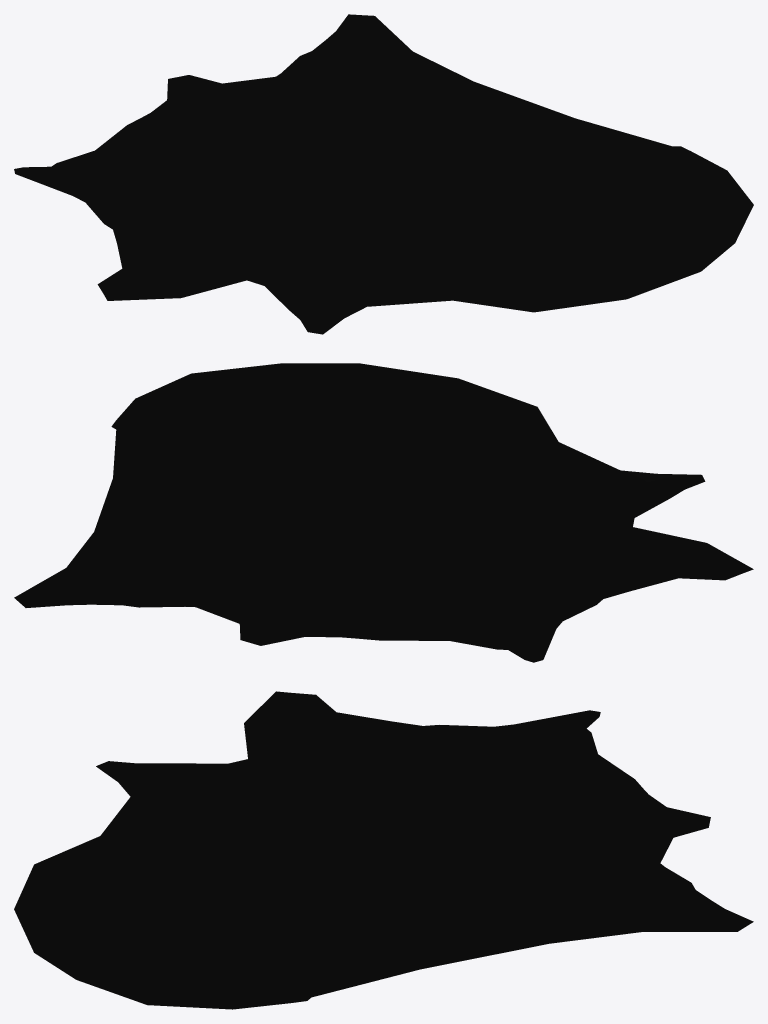
3 views of the same model, one above another, from view 1: azimuth 30°, elevation 25°; view 2: azimuth 150°, elevation 25°; view 3: azimuth 270°, elevation 25° (orthographic). The views are drawn at different scales.
Parts seen in each view (by area): view 1: Joint_0_Object_0; view 2: Joint_0_Object_0; view 3: Joint_0_Object_0.
Boxes of the visible parts, x1,y1,x2,y2 form: Joint_0_Object_0: (14, 14, 753, 334); Joint_0_Object_0: (14, 363, 753, 662); Joint_0_Object_0: (14, 691, 753, 1009).
Bounding box in the file's own units: 2331 × 71.89 × 2300.
Materials: 1 (1 with a texture image).
